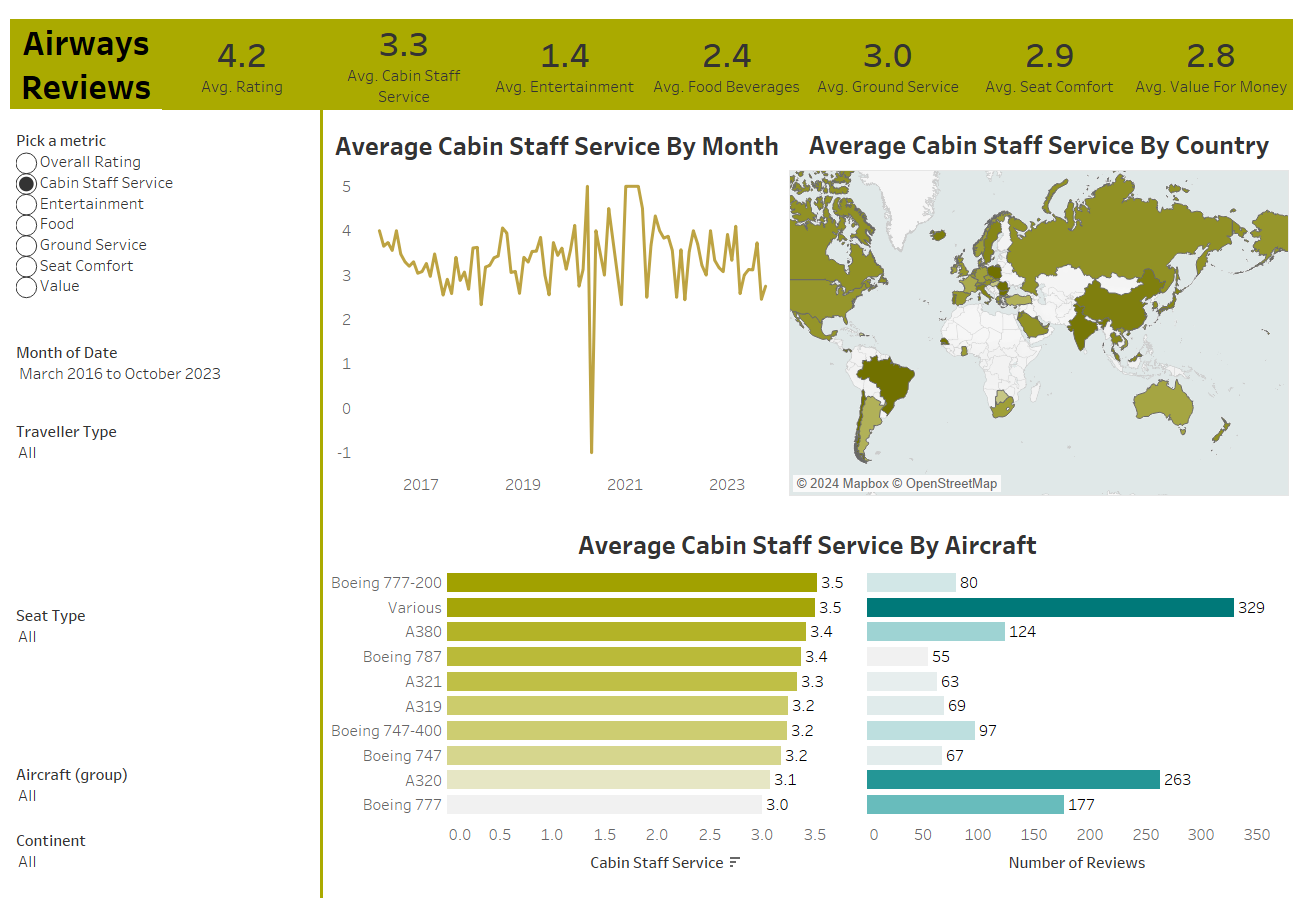

What the dashboard file says about the page in this screenshot:
{"tool":"tableau","page":{"name":"Dashboard 1","canvas":[1300,900],"ordinal":0},"visuals":[{"type":"text","box":[10,19,152,90]},{"type":"worksheet","title":"Summary","mark":"Automatic","box":[162,19,1130,90]},{"type":"blank","box":[320,109,3,789]},{"type":"worksheet","title":"Map","mark":"Automatic","box":[789,121,500,375]},{"type":"worksheet","title":"Month","mark":"Automatic","rows":["Calculation_1077486255154720768"],"cols":["date"],"box":[328,122,458,375]},{"type":"parameter","param":"[Parameters].[Parameter 1]","box":[12,125,310,212]},{"type":"filter","title":"Map","param":"[federated.06o9wq0128fbi019tariw18q9teo].[tmn:date:qk]","box":[12,337,310,79]},{"type":"filter","title":"Map","param":"[federated.06o9wq0128fbi019tariw18q9teo].[none:traveller_type:nk]","box":[12,416,310,184]},{"type":"worksheet","title":"Aircraft","mark":"Automatic","cols":["Calculation_1077486255154720768","Airline_dataset.csv_0763C861F9A9409F9BCF26ABCB1ACA4E"],"box":[327,521,961,359]},{"type":"filter","title":"Map","param":"[federated.06o9wq0128fbi019tariw18q9teo].[none:seat_type:nk]","box":[12,600,310,159]},{"type":"filter","title":"Map","param":"[federated.06o9wq0128fbi019tariw18q9teo].[Aircraft (group)]","box":[12,759,310,66]},{"type":"filter","title":"Map","param":"[federated.06o9wq0128fbi019tariw18q9teo].[none:Continent:nk]","box":[12,825,310,61]}]}

Visuals, with their boxes in screenshot pixels (x1, y1, x2, y2), scaled from the page's 1300x900 canvas onto the 1300x900 screenshot:
text: select_region(10, 19, 162, 109)
"Summary" worksheet: select_region(162, 19, 1292, 109)
blank: select_region(320, 109, 323, 898)
"Map" worksheet: select_region(789, 121, 1289, 496)
"Month" worksheet: select_region(328, 122, 786, 497)
parameter: select_region(12, 125, 322, 337)
"Map" filter: select_region(12, 337, 322, 416)
"Map" filter: select_region(12, 416, 322, 600)
"Aircraft" worksheet: select_region(327, 521, 1288, 880)
"Map" filter: select_region(12, 600, 322, 759)
"Map" filter: select_region(12, 759, 322, 825)
"Map" filter: select_region(12, 825, 322, 886)
